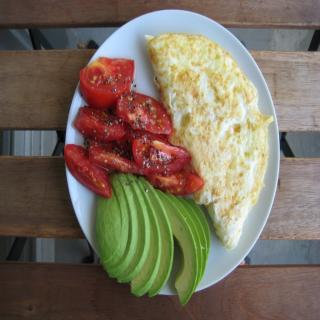tomato: (79, 51, 137, 106), (64, 142, 112, 198), (114, 89, 171, 134), (132, 128, 189, 172), (74, 106, 125, 146), (85, 139, 139, 175), (146, 170, 202, 197)
